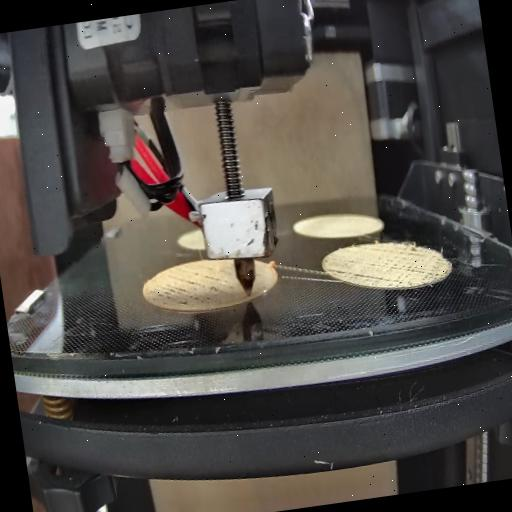under_extrusion: (324, 238, 450, 296), (144, 266, 236, 314)
